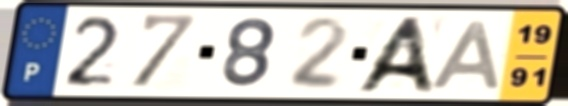2: (286, 15, 352, 94), (64, 13, 123, 90)
7: (128, 12, 200, 92)
8: (220, 16, 279, 90)
A: (349, 15, 440, 95), (426, 18, 504, 91)
